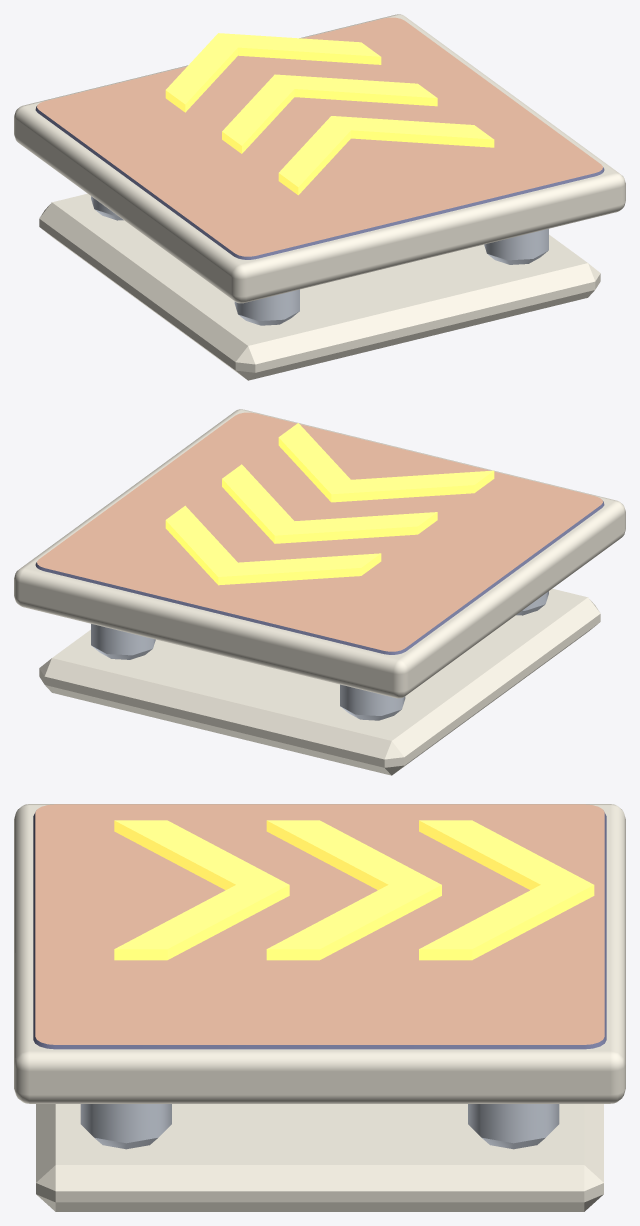
The model's file is R4D_KnockbackTrap.fbx.
3 renders of one model, top to bottom at view 1: azimuth 30°, elevation 25°; view 2: azimuth 150°, elevation 25°; view 3: azimuth 270°, elevation 25°, orthographic. The views are drawn at different scales.
Parts seen in each view (by area): view 1: R4D_KnockbackTrap_Plate, R4D_KnockbackTrap_Body; view 2: R4D_KnockbackTrap_Plate, R4D_KnockbackTrap_Body; view 3: R4D_KnockbackTrap_Plate, R4D_KnockbackTrap_Body.
Part boxes in pixels (x1,y1,x2,y2): R4D_KnockbackTrap_Plate: (14, 14, 625, 303); R4D_KnockbackTrap_Body: (39, 193, 600, 380); R4D_KnockbackTrap_Plate: (14, 409, 625, 698); R4D_KnockbackTrap_Body: (39, 588, 600, 775); R4D_KnockbackTrap_Plate: (14, 804, 625, 1103); R4D_KnockbackTrap_Body: (36, 1104, 603, 1211).
Bounding box in the file's own units: 0.474 × 0.1841 × 0.474.
